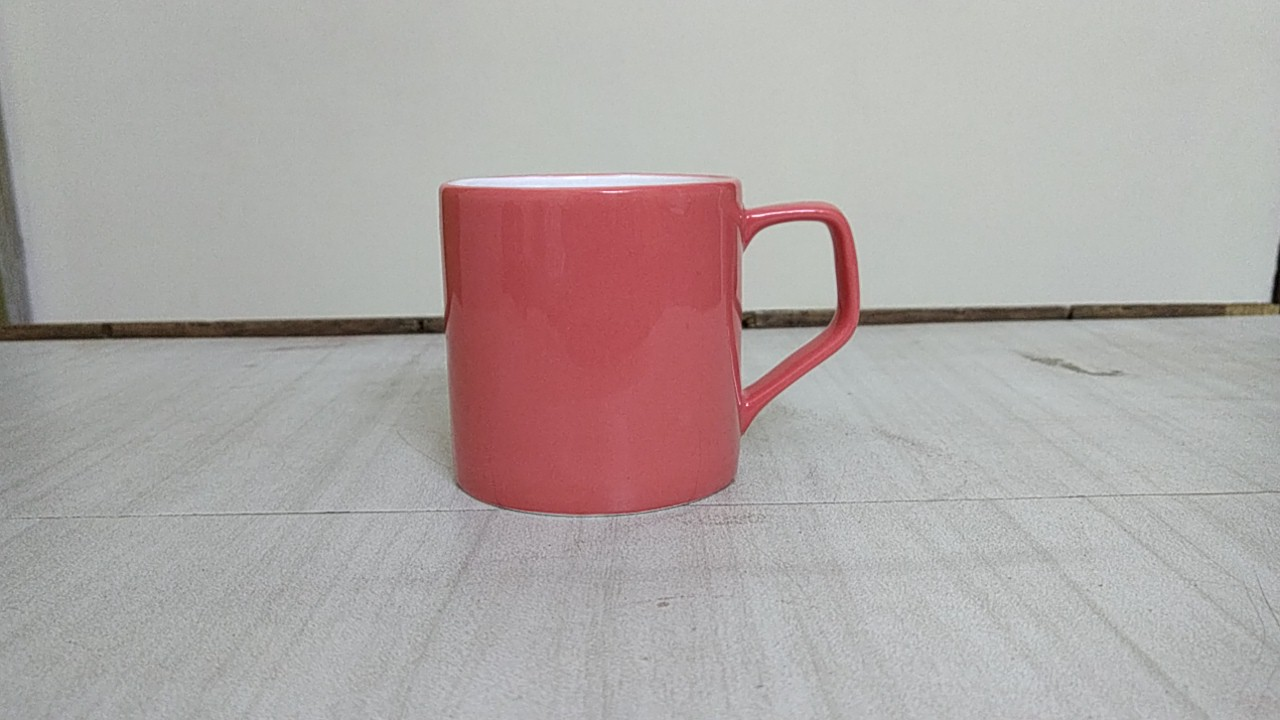cup: (421, 165, 873, 531)
